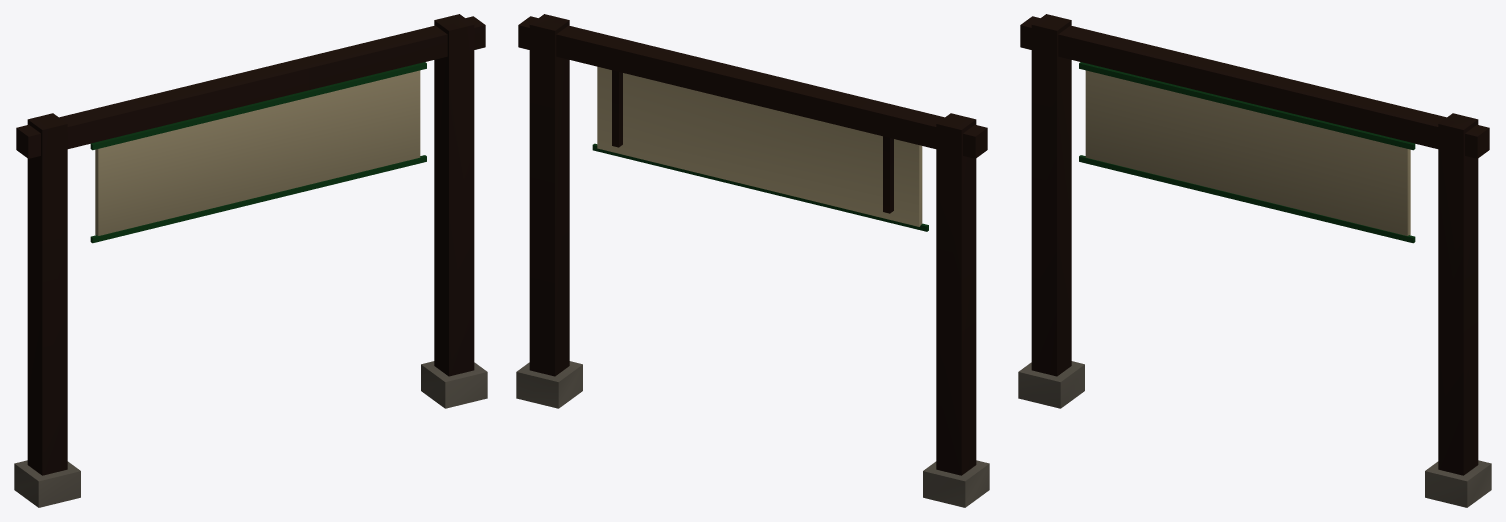
The model's file is fm_gate_lod1.glb.
3 renders of one model, left to right at view 1: azimuth 30°, elevation 25°; view 2: azimuth 150°, elevation 25°; view 3: azimuth 330°, elevation 25°, orthographic.
Visible parts, largest first — view 1: fm_gate_lod1; view 2: fm_gate_lod1; view 3: fm_gate_lod1.
Boxes of the visible parts, bbox=[...] form: fm_gate_lod1: bbox=[14, 14, 487, 507]; fm_gate_lod1: bbox=[516, 14, 989, 507]; fm_gate_lod1: bbox=[1018, 14, 1491, 507].
Bounding box in the file's own units: 5.4 × 4.2 × 0.5.
